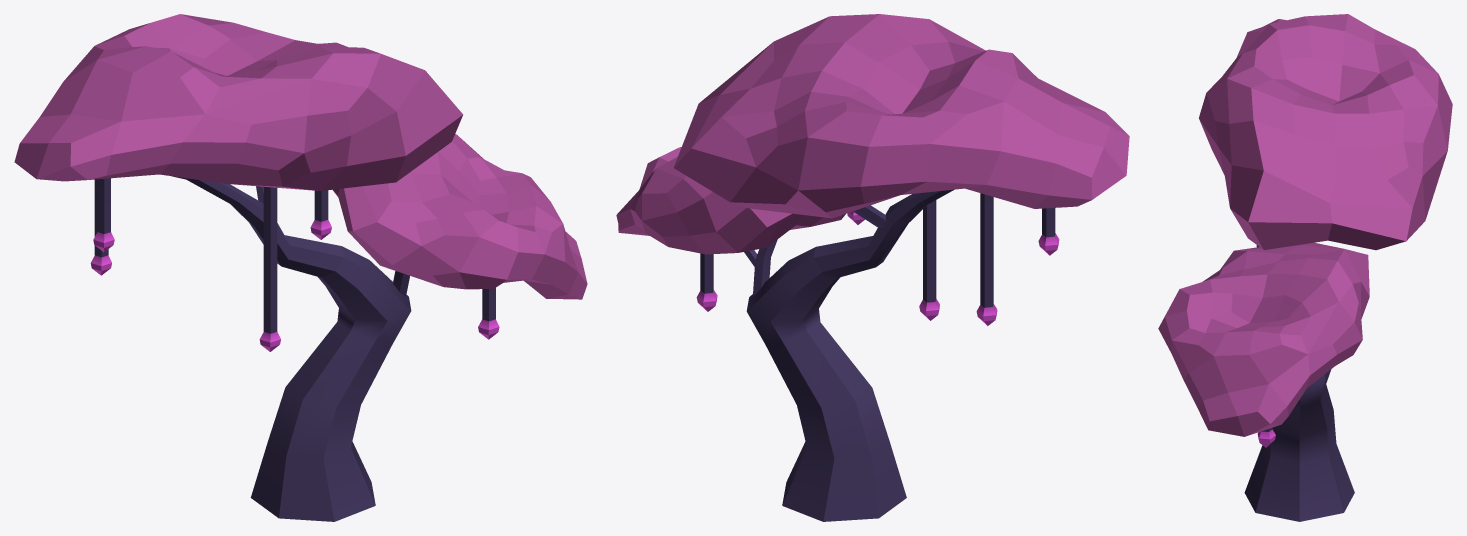
The model's file is Tree_1.fbx.
The picture shows the model from 3 angles, left to right: view 1: azimuth 30°, elevation 25°; view 2: azimuth 150°, elevation 25°; view 3: azimuth 270°, elevation 25°; orthographic projection. The views are drawn at different scales.
Parts seen in each view (by area): view 1: Tree_1; view 2: Tree_1; view 3: Tree_1.
Part boxes in pixels (box(x1,y1,x2,y2)): Tree_1: box(14, 14, 587, 521); Tree_1: box(616, 14, 1129, 521); Tree_1: box(1158, 14, 1452, 521).
Size of the model in its own units: 3.66 by 3.17 by 2.04.
